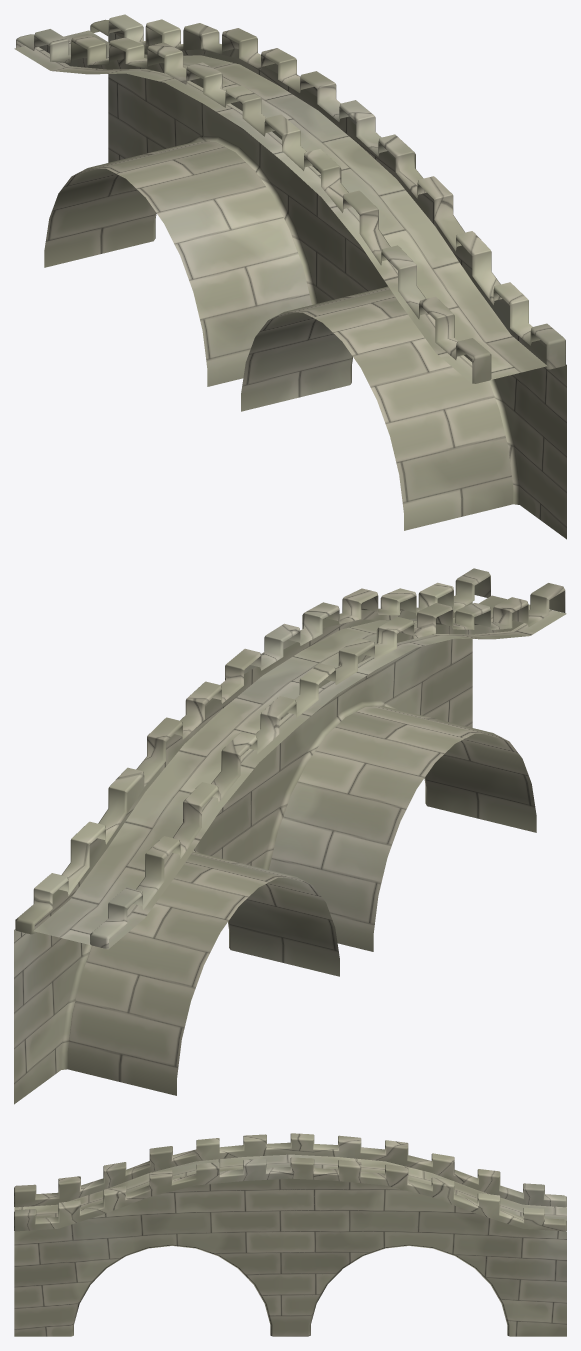
The model's file is MBridgeParapet.fbx.
3 views of the same model, one above another, from view 1: azimuth 30°, elevation 25°; view 2: azimuth 150°, elevation 25°; view 3: azimuth 270°, elevation 25° (orthographic). The views are drawn at different scales.
Visible parts, largest first — view 1: bridge2_arch, bridge2_parapet; view 2: bridge2_arch, bridge2_parapet; view 3: bridge2_arch, bridge2_parapet.
Part boxes in pixels (<box>): bridge2_arch: <box>14,30,566,539</box>; bridge2_parapet: <box>16,14,565,383</box>; bridge2_arch: <box>14,595,566,1104</box>; bridge2_parapet: <box>15,568,565,948</box>; bridge2_arch: <box>14,1154,566,1336</box>; bridge2_parapet: <box>14,1133,566,1231</box>.
Size of the model in its own units: 10 by 24.66 by 70.03.
1 material, 1 textured.
